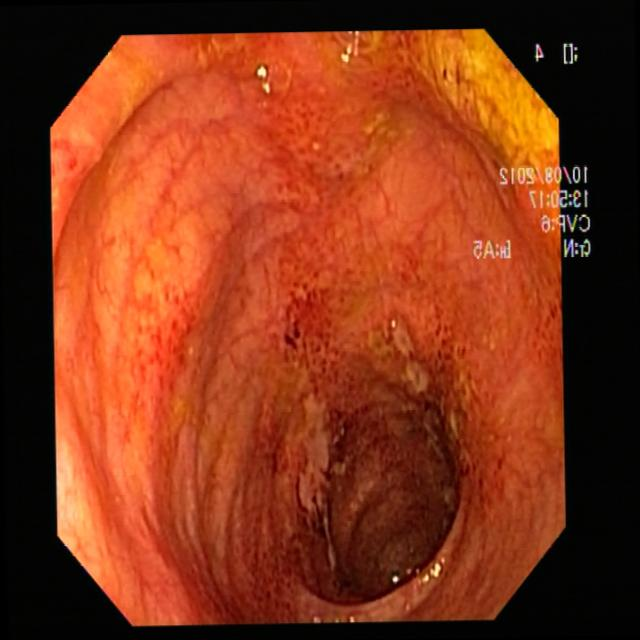ulcerative-colities: (240, 231, 480, 621), (381, 24, 567, 232), (112, 280, 206, 445)
